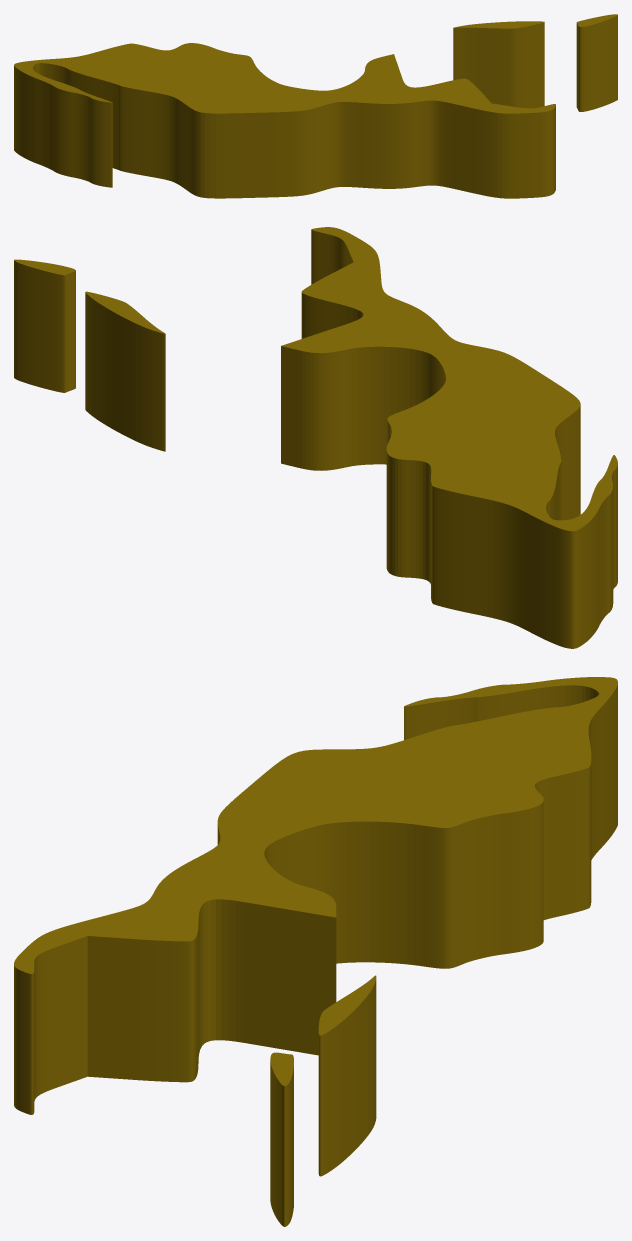
The model's file is North_America_03.obj.
3 views of the same model, one above another, from view 1: azimuth 30°, elevation 25°; view 2: azimuth 150°, elevation 25°; view 3: azimuth 270°, elevation 25° (orthographic). The views are drawn at different scales.
Parts seen in each view (by area): view 1: North_America_03_path4188; view 2: North_America_03_path4188; view 3: North_America_03_path4188.
Boxes of the visible parts, bbox=[...] form: North_America_03_path4188: bbox=[14, 14, 617, 198]; North_America_03_path4188: bbox=[14, 227, 617, 648]; North_America_03_path4188: bbox=[14, 677, 617, 1226].
Size of the model in its own units: 0.6231 by 0.1 by 0.3887.
